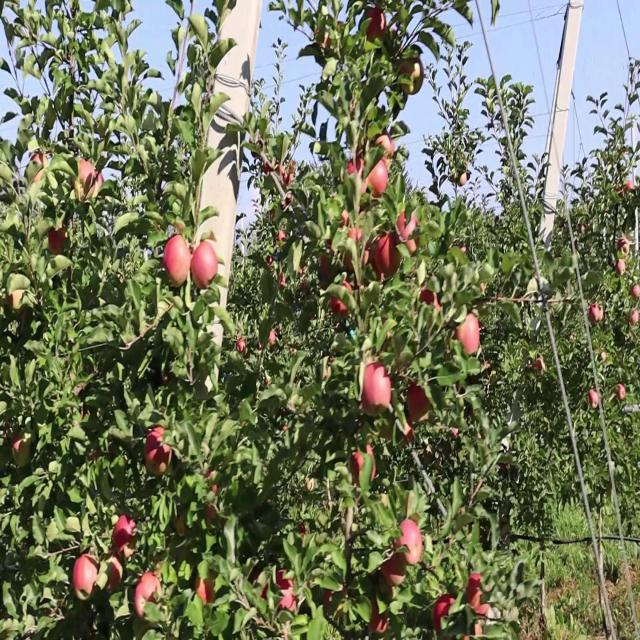apple: (200, 170, 236, 233), (164, 234, 192, 290), (144, 426, 173, 476), (192, 241, 220, 292), (364, 362, 392, 411), (396, 519, 424, 567), (136, 575, 164, 620), (76, 554, 99, 601), (456, 312, 480, 356), (376, 234, 401, 276), (276, 568, 299, 612), (468, 575, 491, 619), (400, 56, 424, 98), (352, 447, 377, 487), (400, 49, 423, 92), (100, 554, 124, 594), (112, 519, 137, 556), (380, 554, 407, 588), (408, 383, 432, 421), (72, 376, 92, 420), (432, 597, 456, 633), (324, 583, 348, 617), (76, 163, 96, 203), (332, 284, 354, 320), (276, 568, 298, 604), (396, 213, 420, 245), (468, 575, 488, 612), (368, 7, 388, 43), (320, 241, 338, 281), (384, 241, 402, 277), (372, 597, 389, 635), (8, 291, 30, 320), (372, 163, 389, 199), (196, 575, 217, 604), (28, 156, 49, 185), (48, 227, 68, 256), (420, 284, 441, 311), (12, 440, 32, 468), (376, 135, 396, 162), (380, 412, 396, 441), (204, 469, 220, 496), (356, 156, 368, 192), (400, 419, 415, 446), (344, 248, 359, 274), (316, 28, 332, 52), (404, 234, 420, 256), (348, 227, 365, 247), (264, 156, 278, 178), (352, 156, 366, 176), (372, 263, 385, 284), (360, 170, 370, 196), (588, 391, 600, 411), (532, 355, 544, 375), (96, 170, 105, 196), (588, 305, 599, 325), (340, 213, 351, 233), (356, 156, 366, 178), (616, 383, 628, 400), (628, 312, 640, 327), (472, 625, 484, 639), (180, 519, 188, 539), (616, 263, 627, 277), (616, 184, 626, 199), (620, 241, 631, 254), (348, 163, 356, 180), (632, 312, 640, 327), (628, 177, 636, 192), (632, 284, 640, 299), (300, 526, 309, 539), (600, 312, 606, 320)
